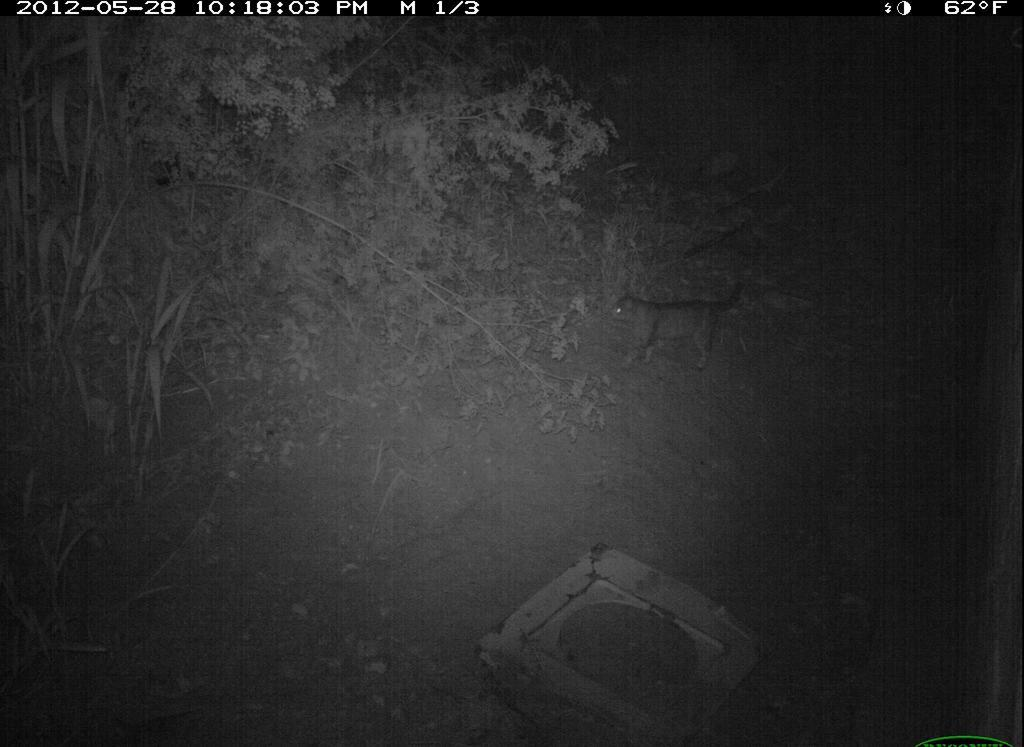cat: (603, 263, 770, 386)
